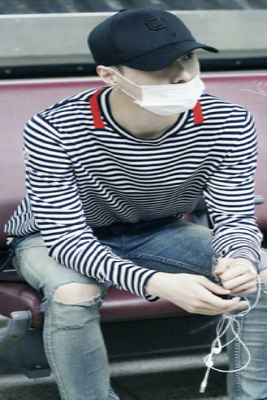mask_weared_incorrect: (123, 52, 200, 115)
